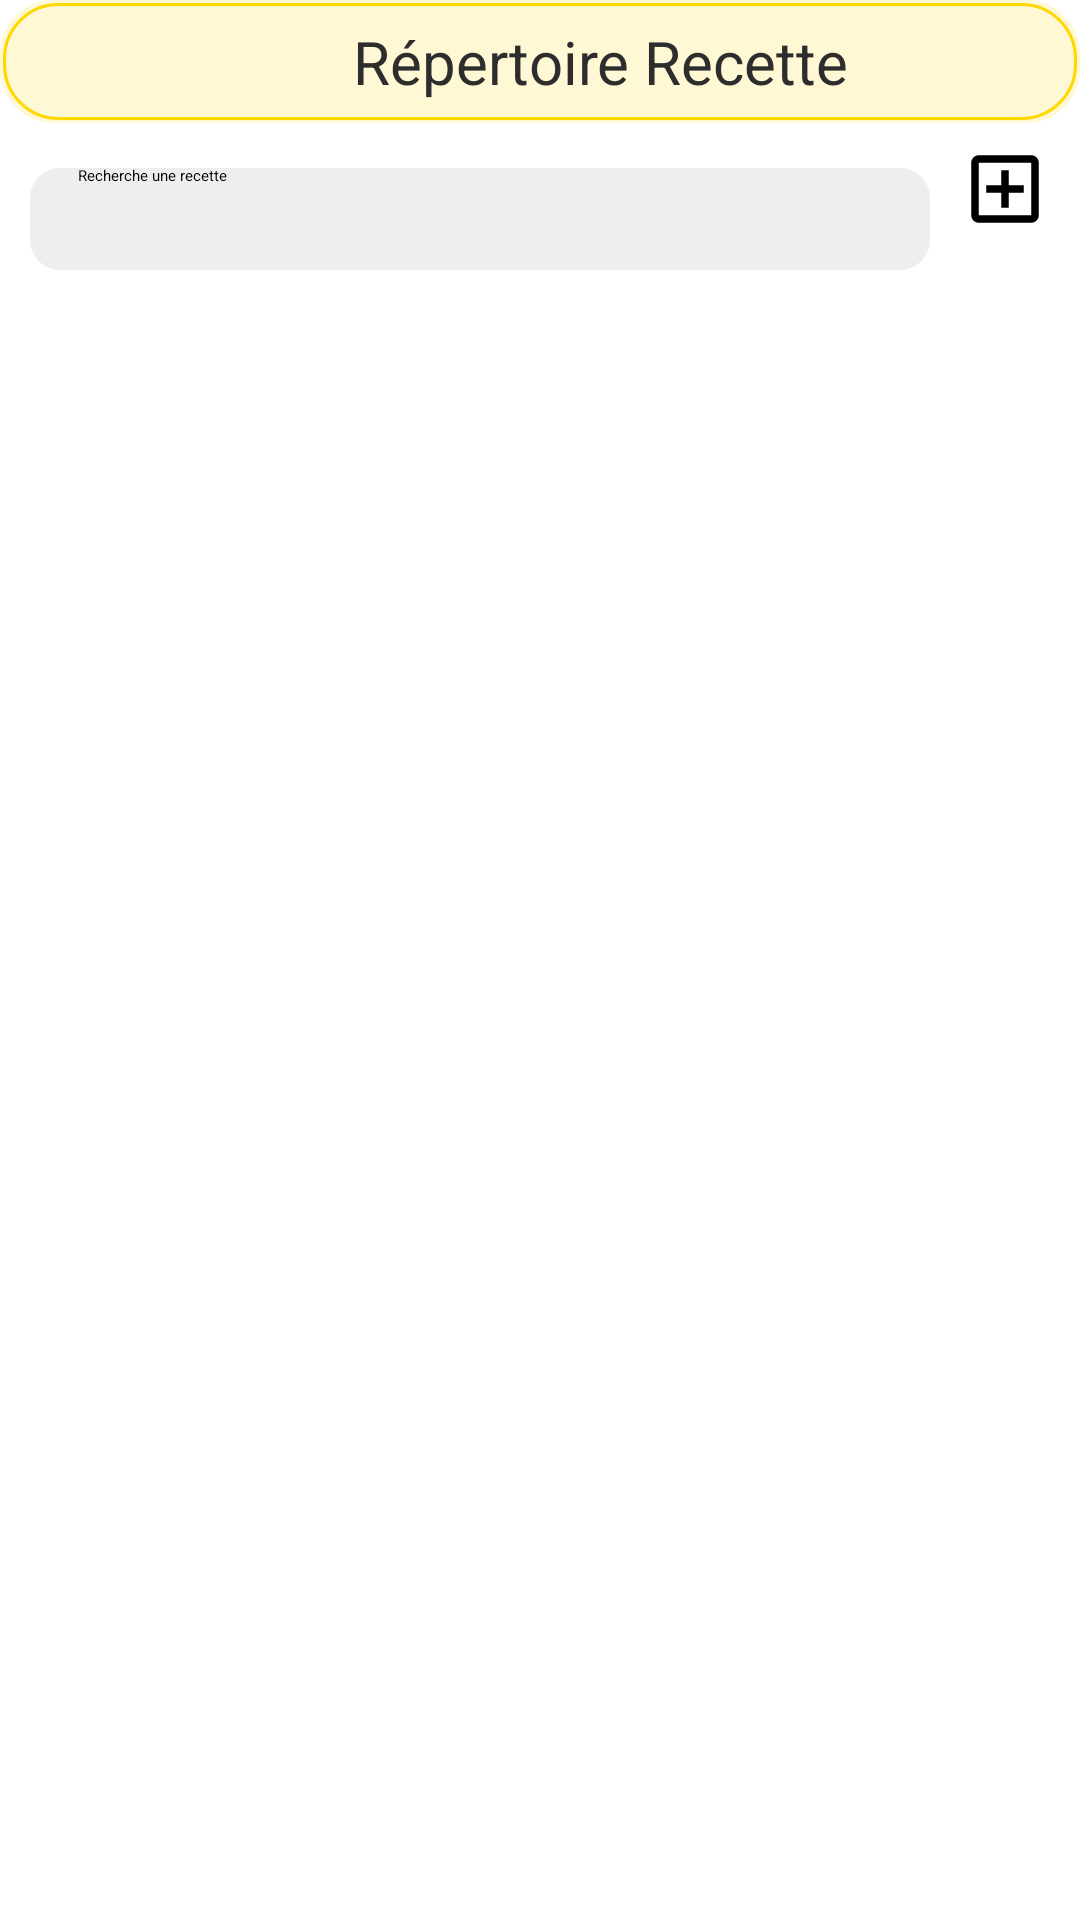

Icon bounding boxes for this 1080px x 1920px phone screenshot, format (x1,y1,x2,y2):
add box: (971,155,1039,223)
